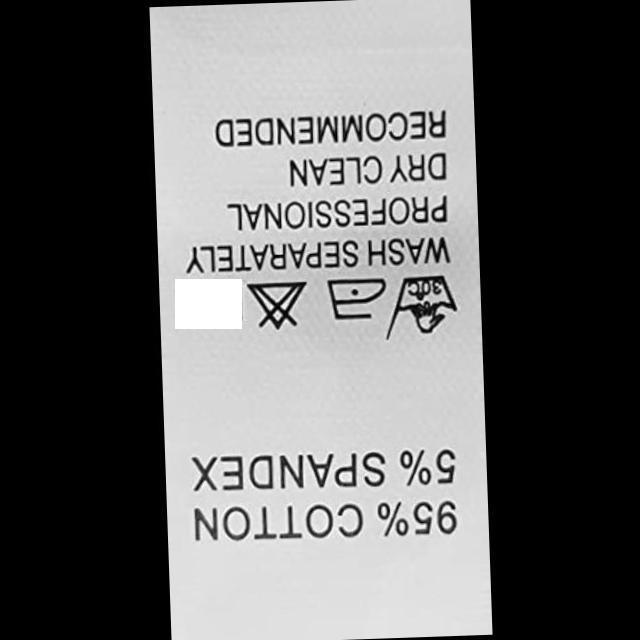30C: (388, 268, 462, 320)
DN_bleach: (242, 275, 311, 334)
iron_low: (320, 274, 390, 326)
